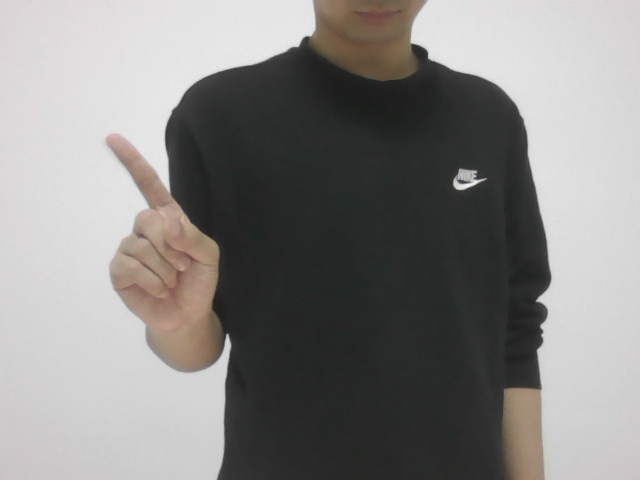what: (81, 124, 229, 346)
